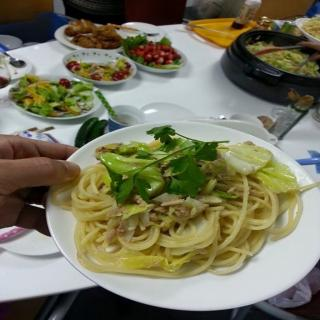Pasta: (66, 128, 300, 275)
Salad: (3, 71, 102, 119), (65, 57, 137, 81)
